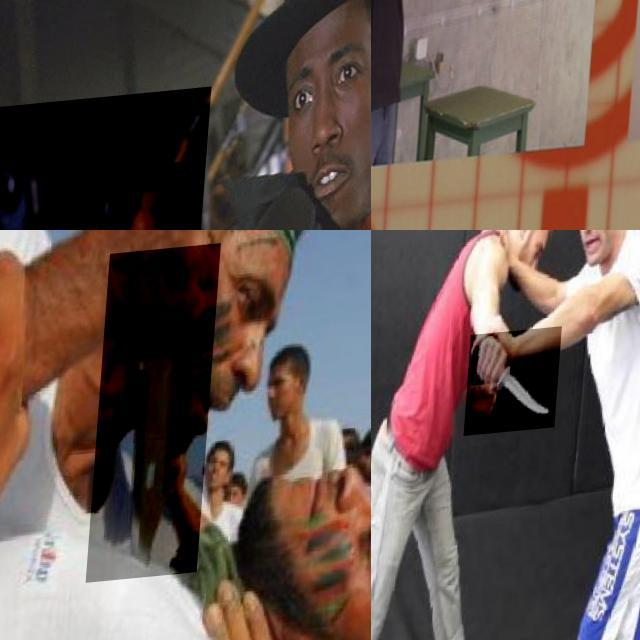-: (93, 250, 223, 588), (468, 333, 566, 441)
gun-knife-thesis - v11 Yolov5 augmented: (0, 92, 214, 230), (434, 0, 502, 52)
